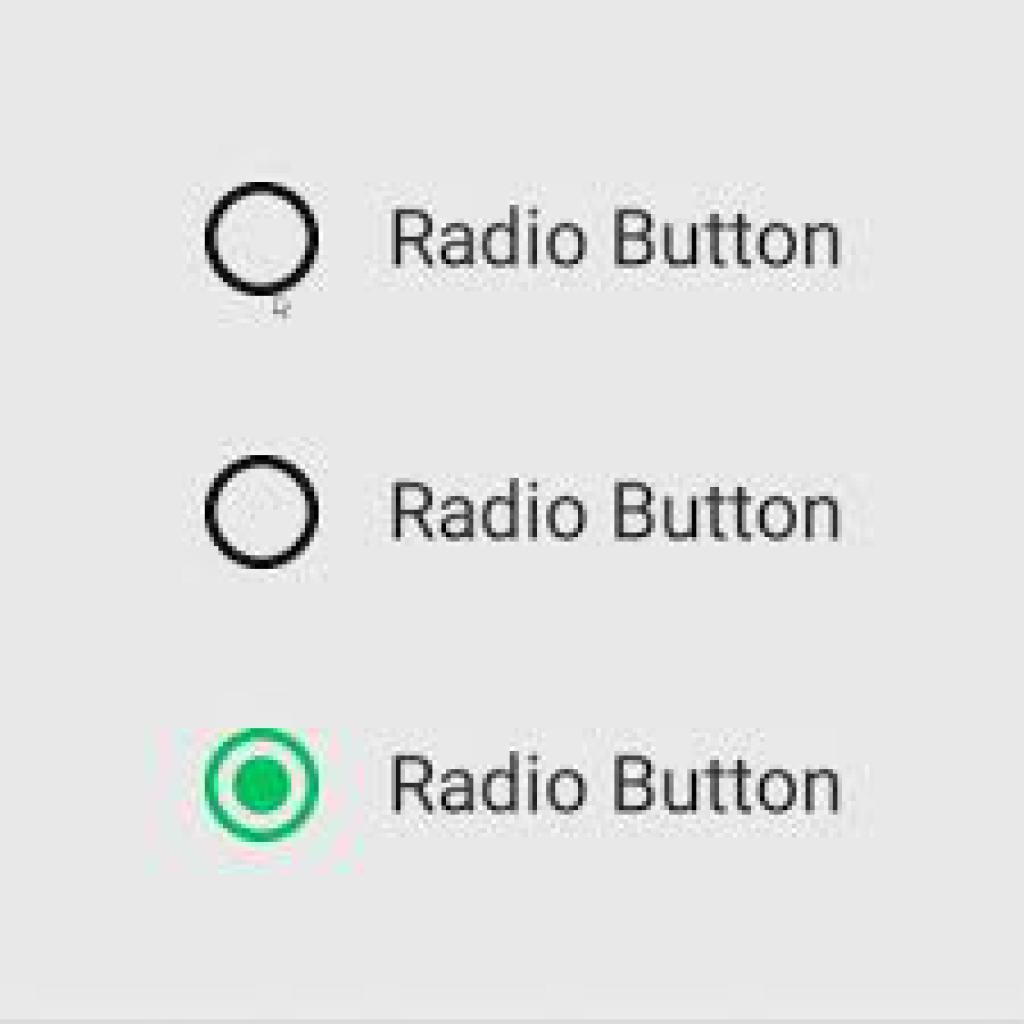radio: (190, 697, 340, 865), (192, 440, 326, 574), (196, 177, 328, 299)
